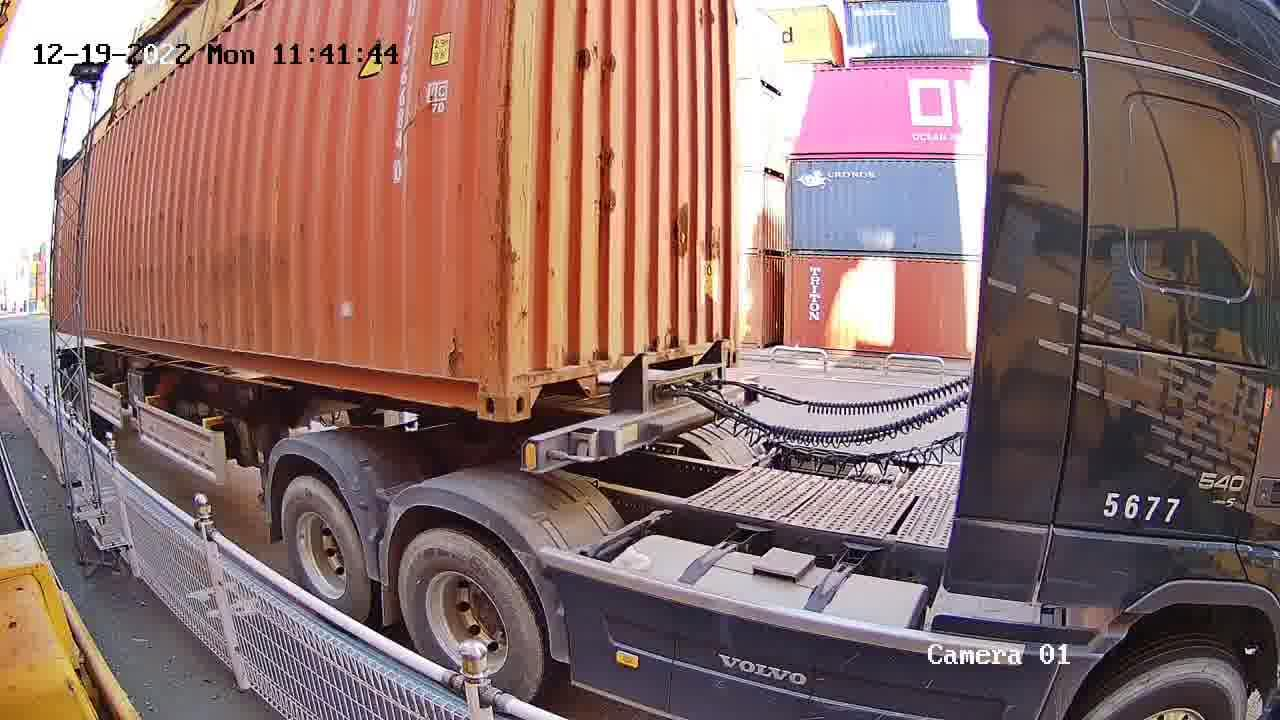Chassis: (525, 378, 762, 474)
Hole_L: (503, 355, 560, 423)
Hole_R: (448, 354, 502, 423), (709, 329, 740, 372)
Tire: (400, 531, 538, 697), (280, 477, 365, 614)
